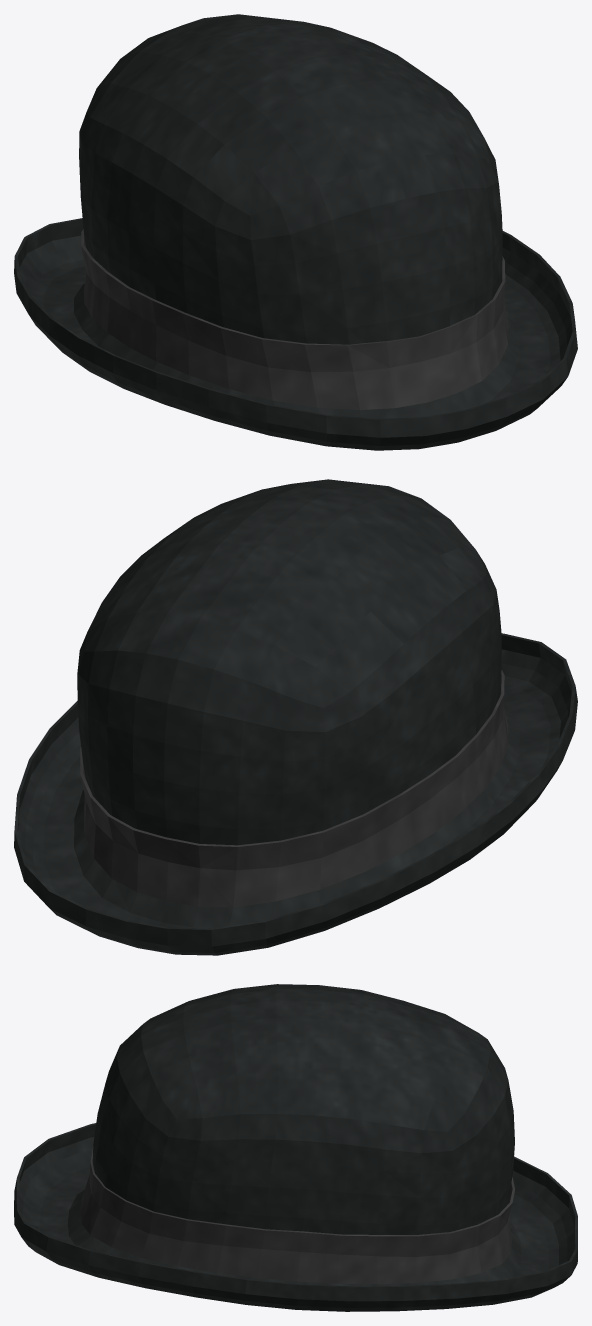
Rendered from mhw_culturalibre_cl_bowler_hat.glb.
The picture shows the model from 3 angles, top to bottom: view 1: azimuth 30°, elevation 25°; view 2: azimuth 150°, elevation 25°; view 3: azimuth 270°, elevation 25°; orthographic projection. The views are drawn at different scales.
Visible parts, largest first — view 1: mhw_culturalibre_cl_bowler_hat; view 2: mhw_culturalibre_cl_bowler_hat; view 3: mhw_culturalibre_cl_bowler_hat.
Part boxes in pixels (x1=…): mhw_culturalibre_cl_bowler_hat: x1=14, y1=14, x2=577, y2=450; mhw_culturalibre_cl_bowler_hat: x1=14, y1=479, x2=577, y2=955; mhw_culturalibre_cl_bowler_hat: x1=14, y1=984, x2=577, y2=1311.
Bounding box in the file's own units: 0.2195 × 0.1534 × 0.2966.
1 material, 1 textured.
